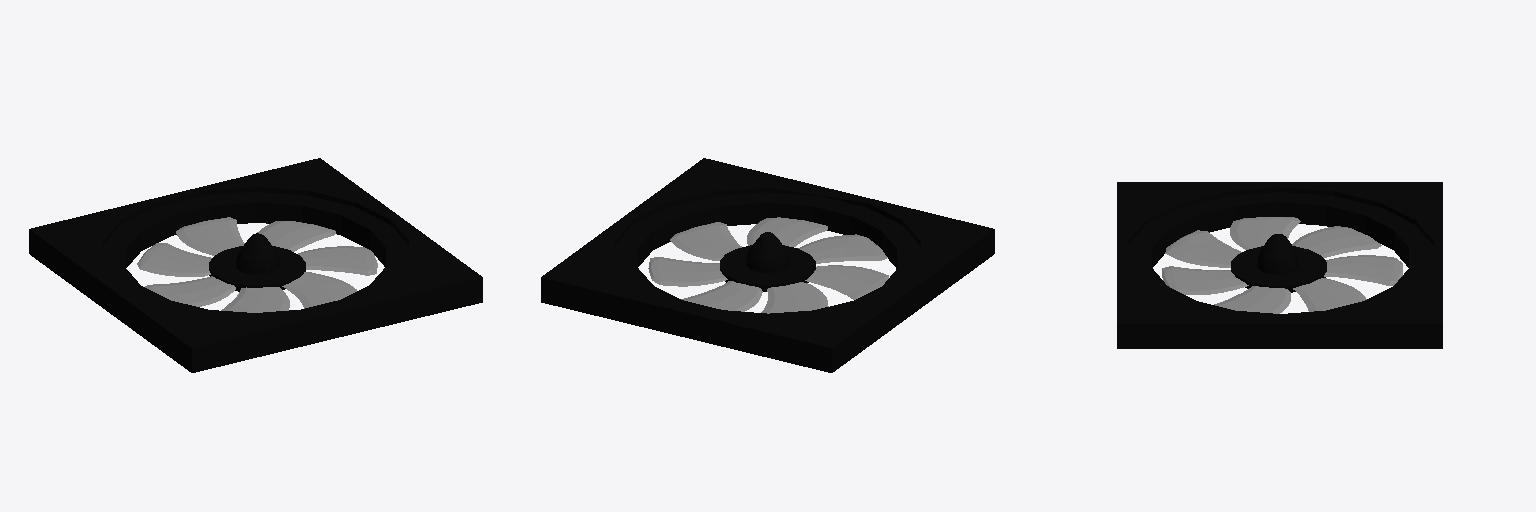
File: AtticFan_1289.obj
The picture shows the model from 3 angles: view 1: azimuth 30°, elevation 25°; view 2: azimuth 150°, elevation 25°; view 3: azimuth 270°, elevation 25°; orthographic projection.
Visible parts, largest first — view 1: Box007; view 2: Box007; view 3: Box007.
Part boxes in pixels (bbox=[...]): Box007: bbox=[29, 158, 482, 372]; Box007: bbox=[541, 158, 994, 372]; Box007: bbox=[1117, 182, 1442, 348].
Size of the model in its own units: 39.34 by 5.81 by 38.2.